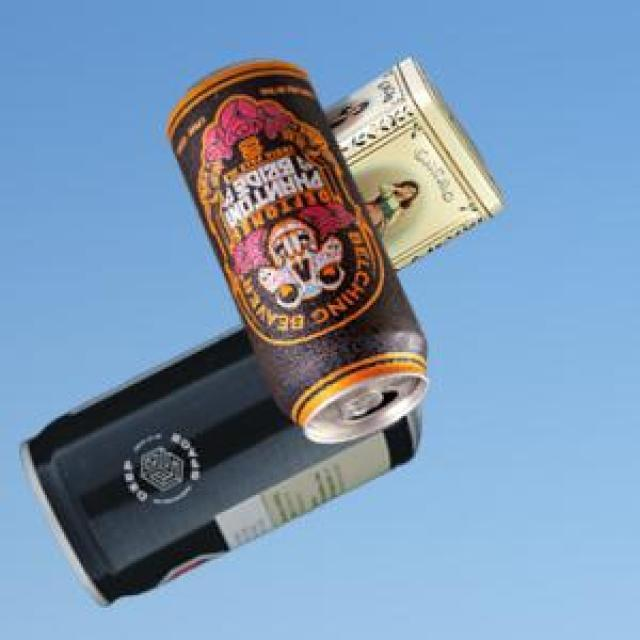Can: (18, 321, 417, 603), (163, 57, 426, 441), (319, 54, 500, 270)
